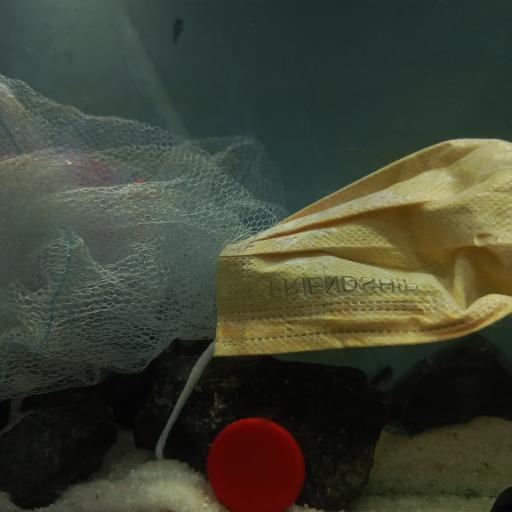bottle_cap: (202, 410, 304, 512)
mask: (206, 133, 512, 359)
net: (2, 74, 285, 392)
